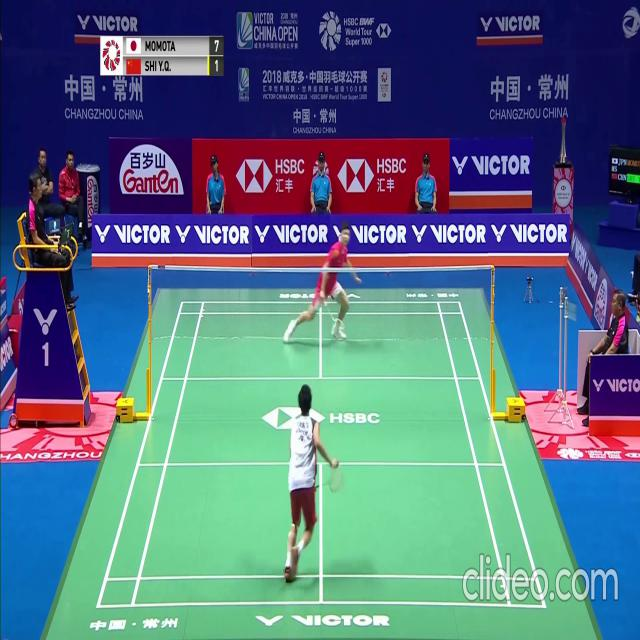Shuttlecock: (392, 232, 397, 240)
